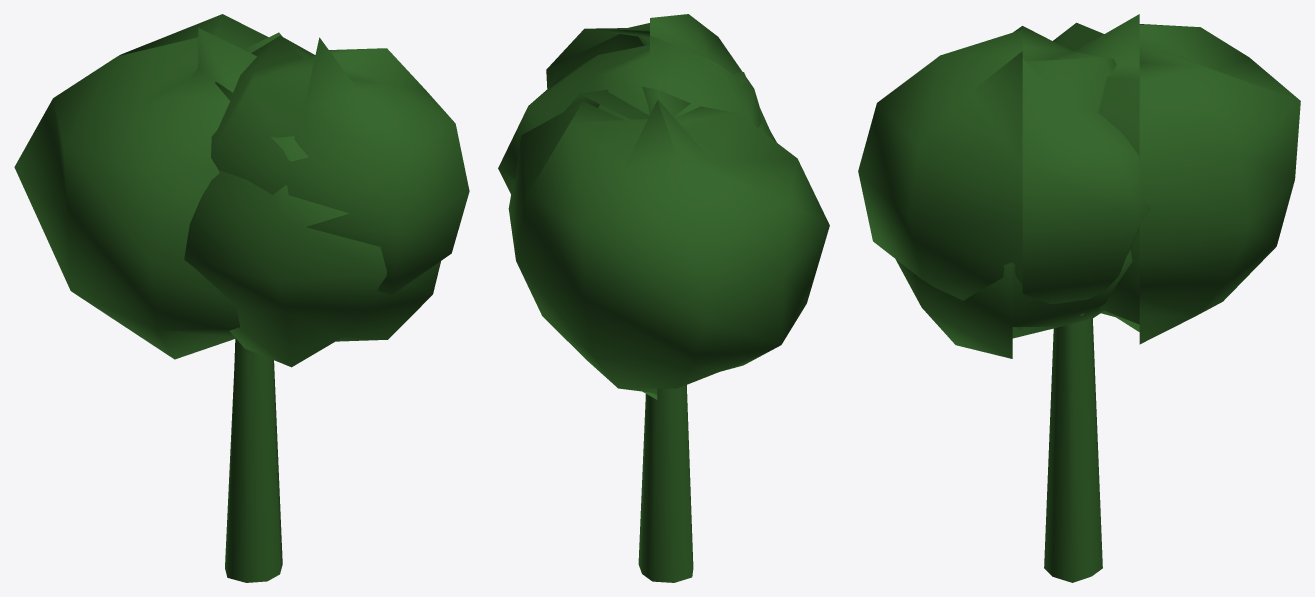
The model's file is tree_yavin_01.obj.
3 views of the same model, side by side, from view 1: azimuth 30°, elevation 25°; view 2: azimuth 150°, elevation 25°; view 3: azimuth 270°, elevation 25° (orthographic). The views are drawn at different scales.
Visible parts, largest first — view 1: tree_yavin_01; view 2: tree_yavin_01; view 3: tree_yavin_01.
Part boxes in pixels (x1,y1,x2,y2): tree_yavin_01: (14, 14, 469, 582); tree_yavin_01: (498, 14, 829, 582); tree_yavin_01: (858, 14, 1300, 582).
Bounding box in the file's own units: 0.637 × 1.04 × 0.7438.
